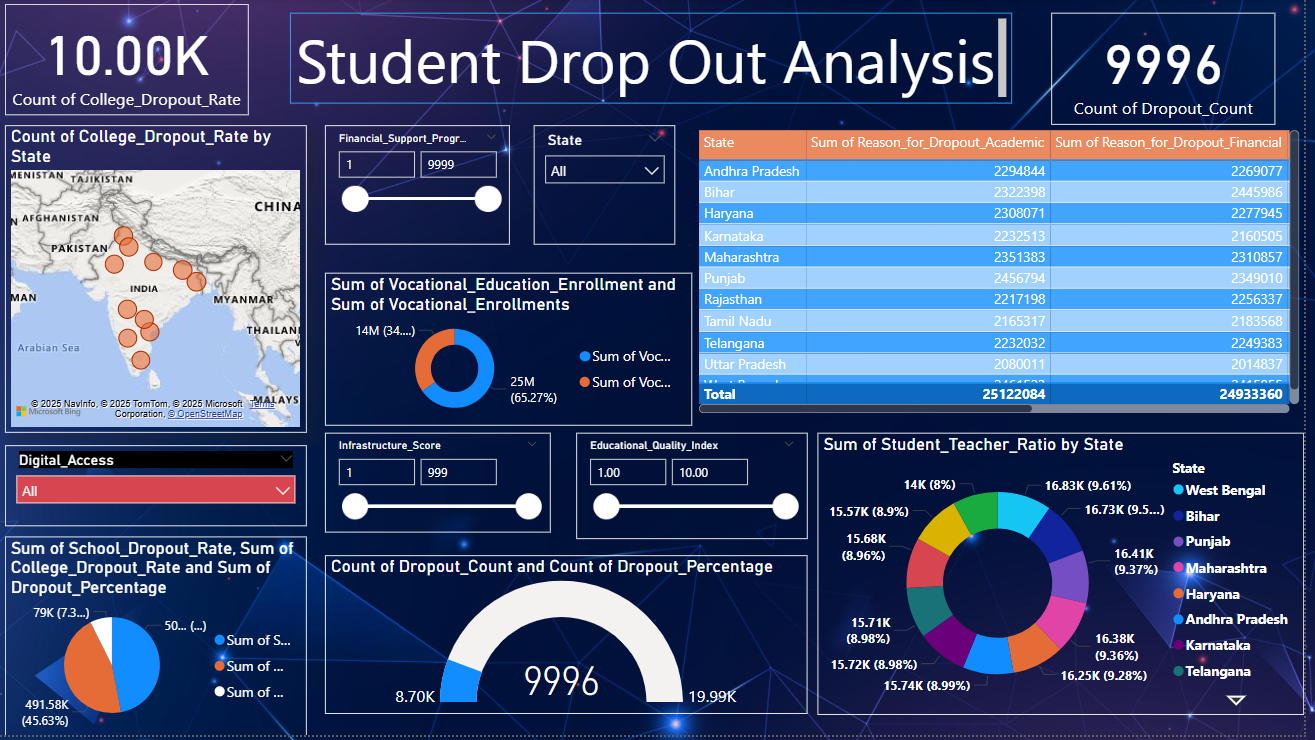

What the dashboard file says about the page in this screenshot:
{"tool":"powerbi","page":{"name":"Page 2","canvas":[1280,720],"ordinal":1},"visuals":[{"type":"textbox","box":[288.2,13.7,706.7,89.2],"z":0},{"type":"map","fields":{"Category":["Cleaned State-wise Data.State"],"Size":["CountNonNull(Cleaned State-wise Data.College_Dropout_Rate)"]},"box":[9.6,123.5,295,300.5],"z":1000},{"type":"card","fields":{"Values":["CountNonNull(Cleaned State-wise Data.Dropout_Count)"]},"box":[1033.3,13.7,219.6,109.8],"z":2000},{"type":"slicer","fields":{"Values":["Cleaned State-wise Data.Digital_Access"]},"box":[9.6,436.4,295,79.6],"z":3000},{"type":"card","fields":{"Values":["CountNonNull(Cleaned State-wise Data.College_Dropout_Rate)"]},"box":[9.6,5.5,238.8,108.4],"z":4000},{"type":"tableEx","fields":{"Values":["Cleaned State-wise Data.State","Sum(Cleaned State-wise Data.Reason_for_Dropout_Academic)","Sum(Cleaned State-wise Data.Reason_for_Dropout_Financial)","Sum(Cleaned State-wise Data.Reason_for_Dropout_Other)","Sum(Cleaned State-wise Data.Reason_for_Dropout_Personal)"]},"box":[682,123.5,598.3,286.8],"z":5000},{"type":"donutChart","fields":{"Y":["Sum(Cleaned State-wise Data.Student_Teacher_Ratio)"],"Category":["Cleaned State-wise Data.State"]},"box":[804.1,424,476.2,275.8],"z":5001},{"type":"pieChart","fields":{"Y":["Sum(Cleaned State-wise Data.School_Dropout_Rate)","Sum(Cleaned State-wise Data.College_Dropout_Rate)","Sum(Cleaned State-wise Data.Dropout_Percentage)"]},"box":[9.6,525.6,295,194.9],"z":5002},{"type":"slicer","fields":{"Values":["Cleaned State-wise Data.Financial_Support_Programs"]},"box":[322.5,123.5,181.1,116.6],"z":5003},{"type":"donutChart","fields":{"Y":["Sum(Cleaned State-wise Data.Vocational_Education_Enrollment)","Sum(Cleaned State-wise Data.Vocational_Enrollments)"]},"box":[322.5,267.6,359.5,149.6],"z":5004},{"type":"gauge","fields":{"Y":["CountNonNull(Cleaned State-wise Data.Dropout_Count)"],"MinValue":["CountNonNull(Cleaned State-wise Data.Dropout_Percentage)"]},"box":[322.5,544.8,472,155.1],"z":5005},{"type":"slicer","fields":{"Values":["Cleaned State-wise Data.Infrastructure_Score"]},"box":[322.5,424,220.9,97.4],"z":5006},{"type":"slicer","fields":{"Values":["Cleaned State-wise Data.Educational_Quality_Index"]},"box":[568.1,424,226.4,104.3],"z":5007},{"type":"slicer","fields":{"Values":["Cleaned State-wise Data.State"]},"box":[526.9,123.5,138.6,116.6],"z":5008}]}

Visuals, with their boxes in screenshot pixels (x1, y1, x2, y2), scaled from the page's 1280x720 canvas onto the 1315x740 screenshot:
textbox: pyautogui.locateOnScreen(296, 14, 1022, 106)
map - Cleaned State-wise Data.State x CountNonNull(Cleaned State-wise Data.College_Dropout_Rate): pyautogui.locateOnScreen(10, 127, 313, 436)
card - CountNonNull(Cleaned State-wise Data.Dropout_Count): pyautogui.locateOnScreen(1062, 14, 1287, 127)
slicer - Cleaned State-wise Data.Digital_Access: pyautogui.locateOnScreen(10, 449, 313, 530)
card - CountNonNull(Cleaned State-wise Data.College_Dropout_Rate): pyautogui.locateOnScreen(10, 6, 255, 117)
tableEx - Cleaned State-wise Data.State x Sum(Cleaned State-wise Data.Reason_for_Dropout_Academic): pyautogui.locateOnScreen(701, 127, 1314, 422)
donutChart - Sum(Cleaned State-wise Data.Student_Teacher_Ratio) x Cleaned State-wise Data.State: pyautogui.locateOnScreen(826, 436, 1314, 719)
pieChart - Sum(Cleaned State-wise Data.School_Dropout_Rate) x Sum(Cleaned State-wise Data.College_Dropout_Rate): pyautogui.locateOnScreen(10, 540, 313, 739)
slicer - Cleaned State-wise Data.Financial_Support_Programs: pyautogui.locateOnScreen(331, 127, 517, 247)
donutChart - Sum(Cleaned State-wise Data.Vocational_Education_Enrollment) x Sum(Cleaned State-wise Data.Vocational_Enrollments): pyautogui.locateOnScreen(331, 275, 701, 429)
gauge - CountNonNull(Cleaned State-wise Data.Dropout_Count) x CountNonNull(Cleaned State-wise Data.Dropout_Percentage): pyautogui.locateOnScreen(331, 560, 816, 719)
slicer - Cleaned State-wise Data.Infrastructure_Score: pyautogui.locateOnScreen(331, 436, 558, 536)
slicer - Cleaned State-wise Data.Educational_Quality_Index: pyautogui.locateOnScreen(584, 436, 816, 543)
slicer - Cleaned State-wise Data.State: pyautogui.locateOnScreen(541, 127, 684, 247)
